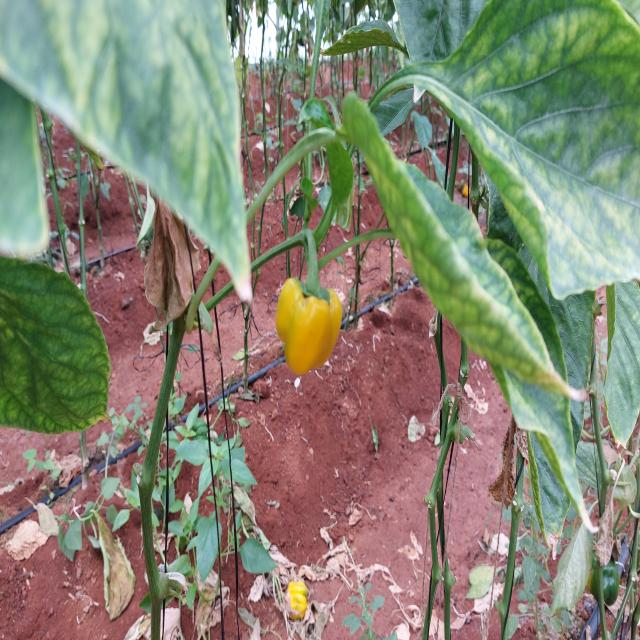Yellow-Ready-to-Harvest: (271, 274, 343, 380)
